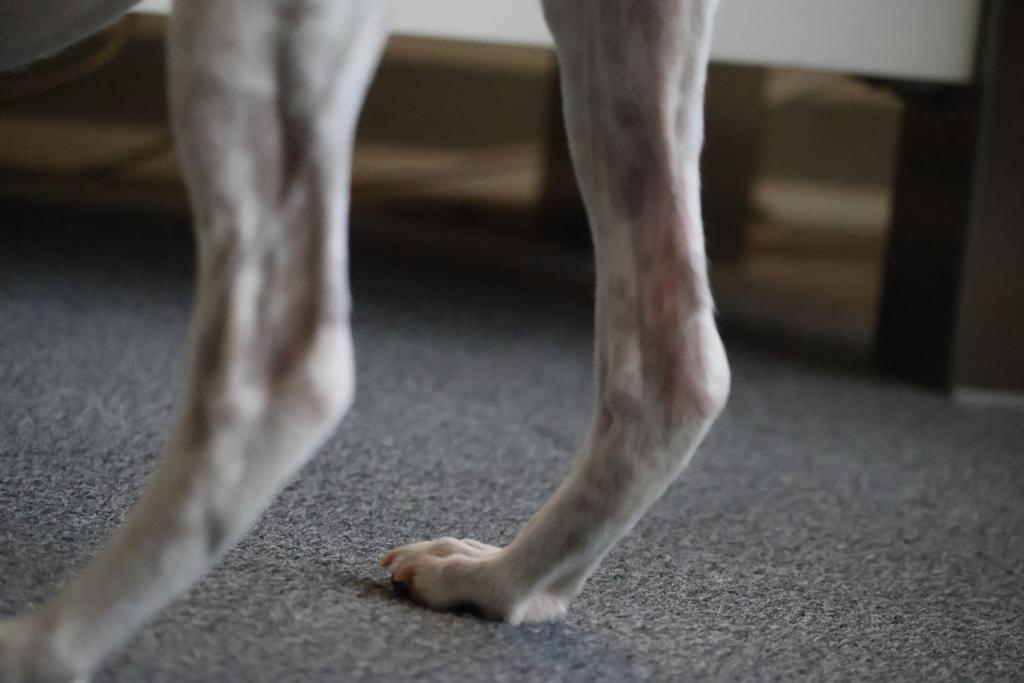Dog: (0, 0, 741, 683)
